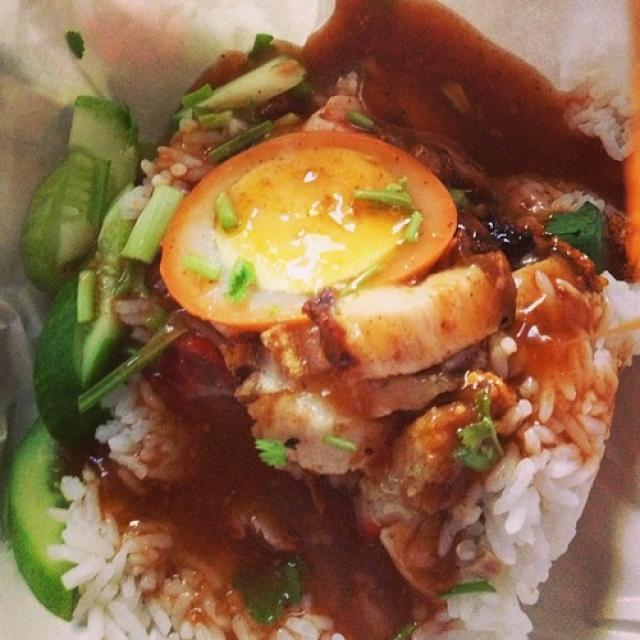猪肉菜式: (36, 10, 609, 611)
